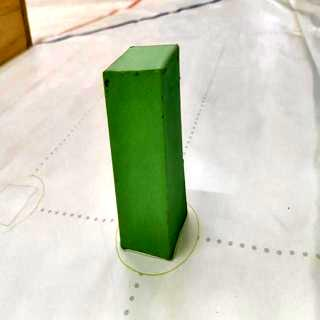greenbox: (102, 42, 188, 262)
